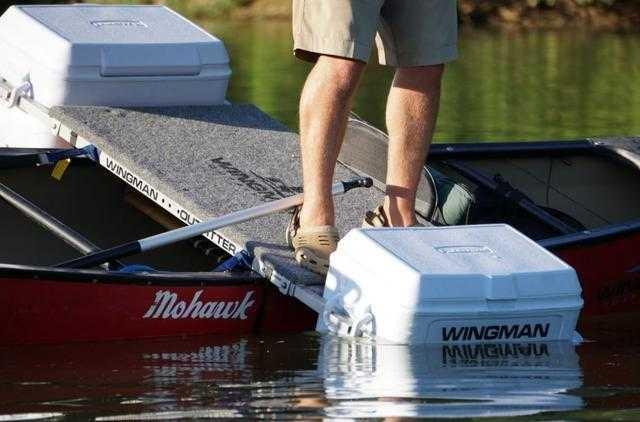kayak: (1, 105, 632, 345)
